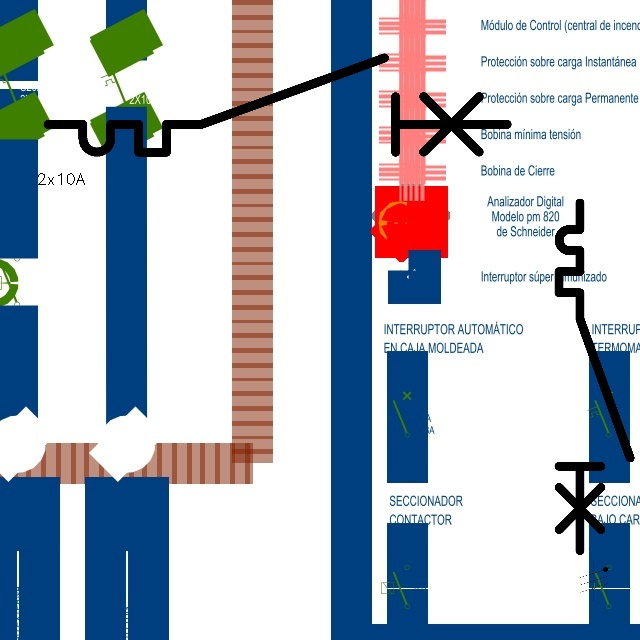interruptor_termomagnetico: (36, 46, 519, 164), (550, 194, 639, 559)
